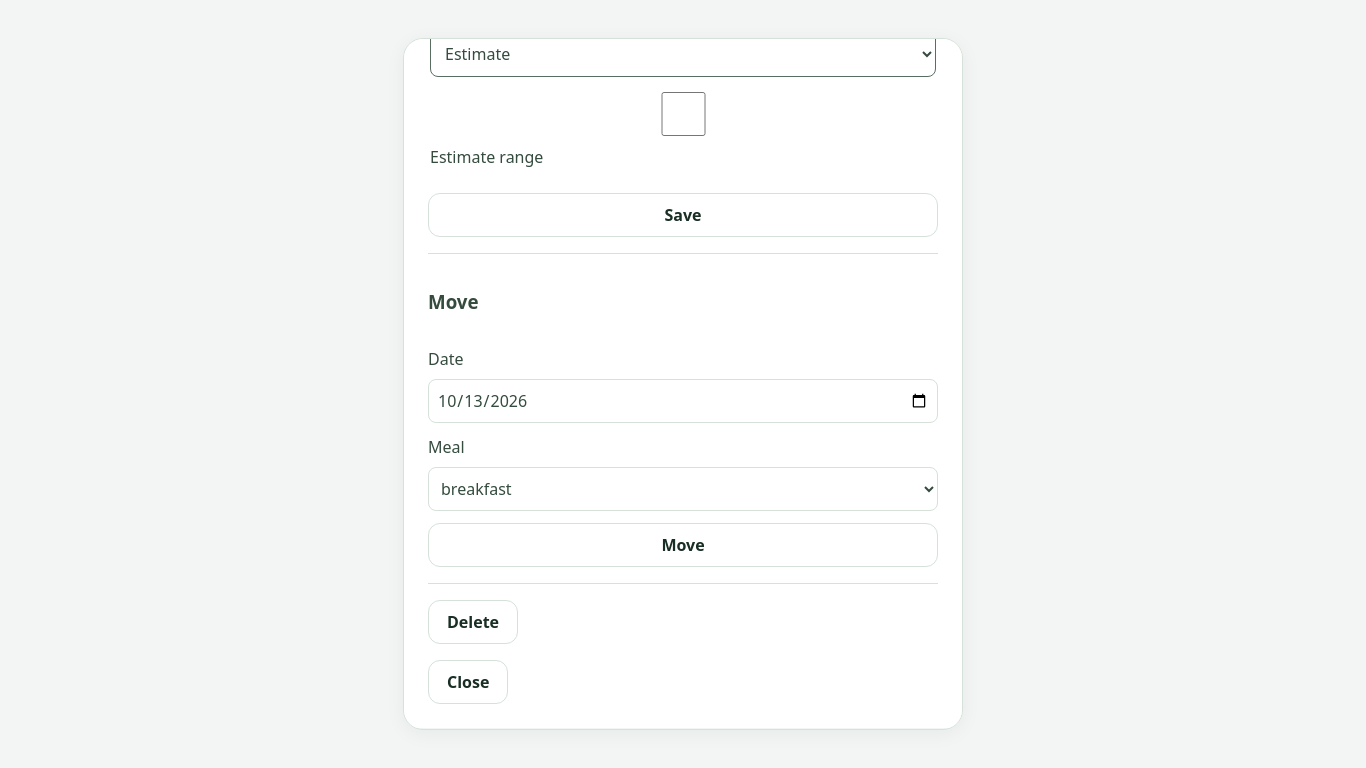
EditItemDialog › delete_on_complete_day_warns_partial
(page scrolled)
Step 1. Click the button "Delete" → (473, 622), box [428,600,518,644]
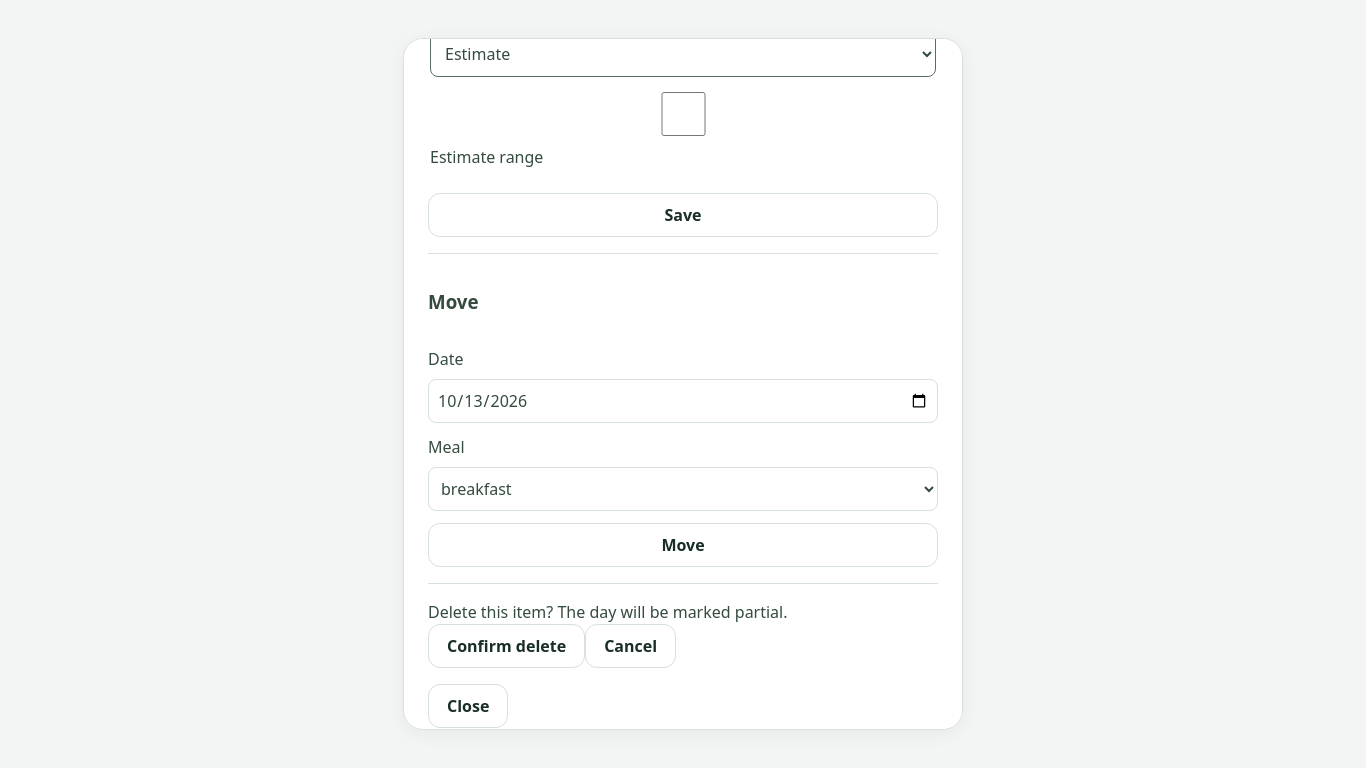
Expected: the text "Delete this item? The day will be marked partial." is shown, [428,601,788,623]
